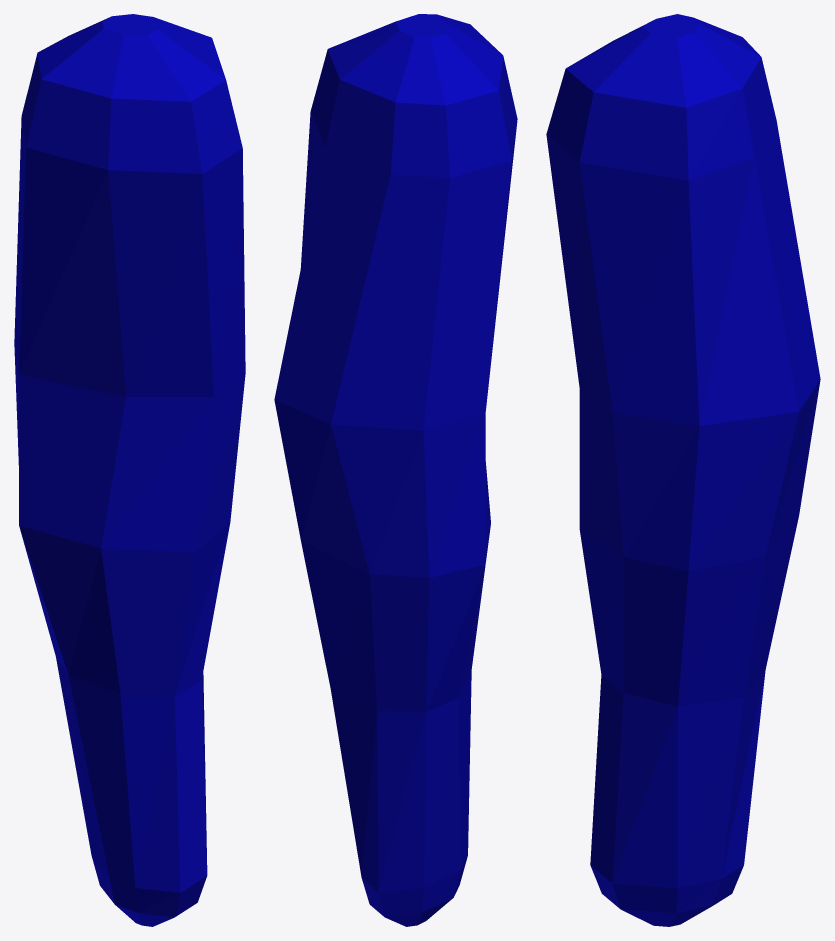
File: LCalf_mesh.dae
3 views of the same model, side by side, from view 1: azimuth 30°, elevation 25°; view 2: azimuth 150°, elevation 25°; view 3: azimuth 270°, elevation 25° (orthographic).
Parts seen in each view (by area): view 1: LCalf; view 2: LCalf; view 3: LCalf.
Boxes of the visible parts, x1,y1,x2,y2 form: LCalf: (14, 14, 245, 926); LCalf: (274, 14, 517, 926); LCalf: (546, 14, 820, 926).
Size of the model in its own units: 0.1067 by 0.4338 by 0.1211.
